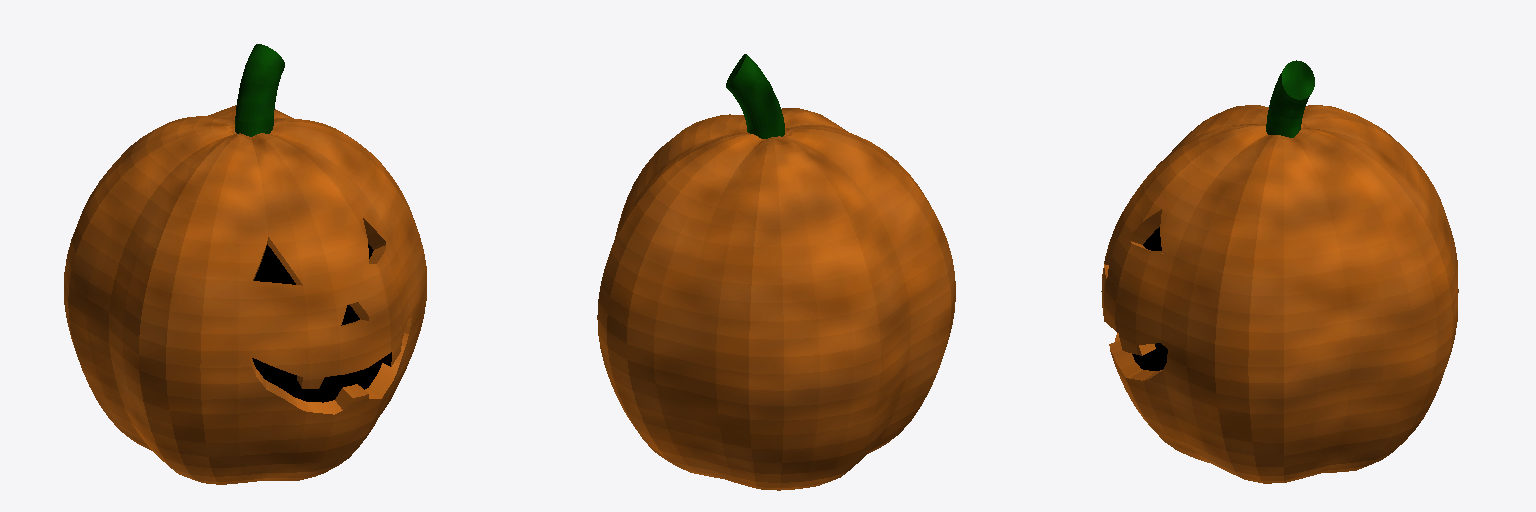
3 renders of one model, left to right at view 1: azimuth 30°, elevation 25°; view 2: azimuth 150°, elevation 25°; view 3: azimuth 270°, elevation 25°, orthographic.
Parts seen in each view (by area): view 1: Sphere, Cylinder; view 2: Sphere, Cylinder; view 3: Sphere, Cylinder.
Part boxes in pixels (bbox=[...]): Sphere: bbox=[64, 105, 426, 484]; Cylinder: bbox=[235, 44, 284, 136]; Sphere: bbox=[597, 108, 955, 490]; Cylinder: bbox=[726, 54, 784, 138]; Sphere: bbox=[1101, 105, 1458, 483]; Cylinder: bbox=[1266, 60, 1314, 137].
Bounding box in the file's own units: 1.84 × 2.36 × 1.89.
3 materials, 2 textured.